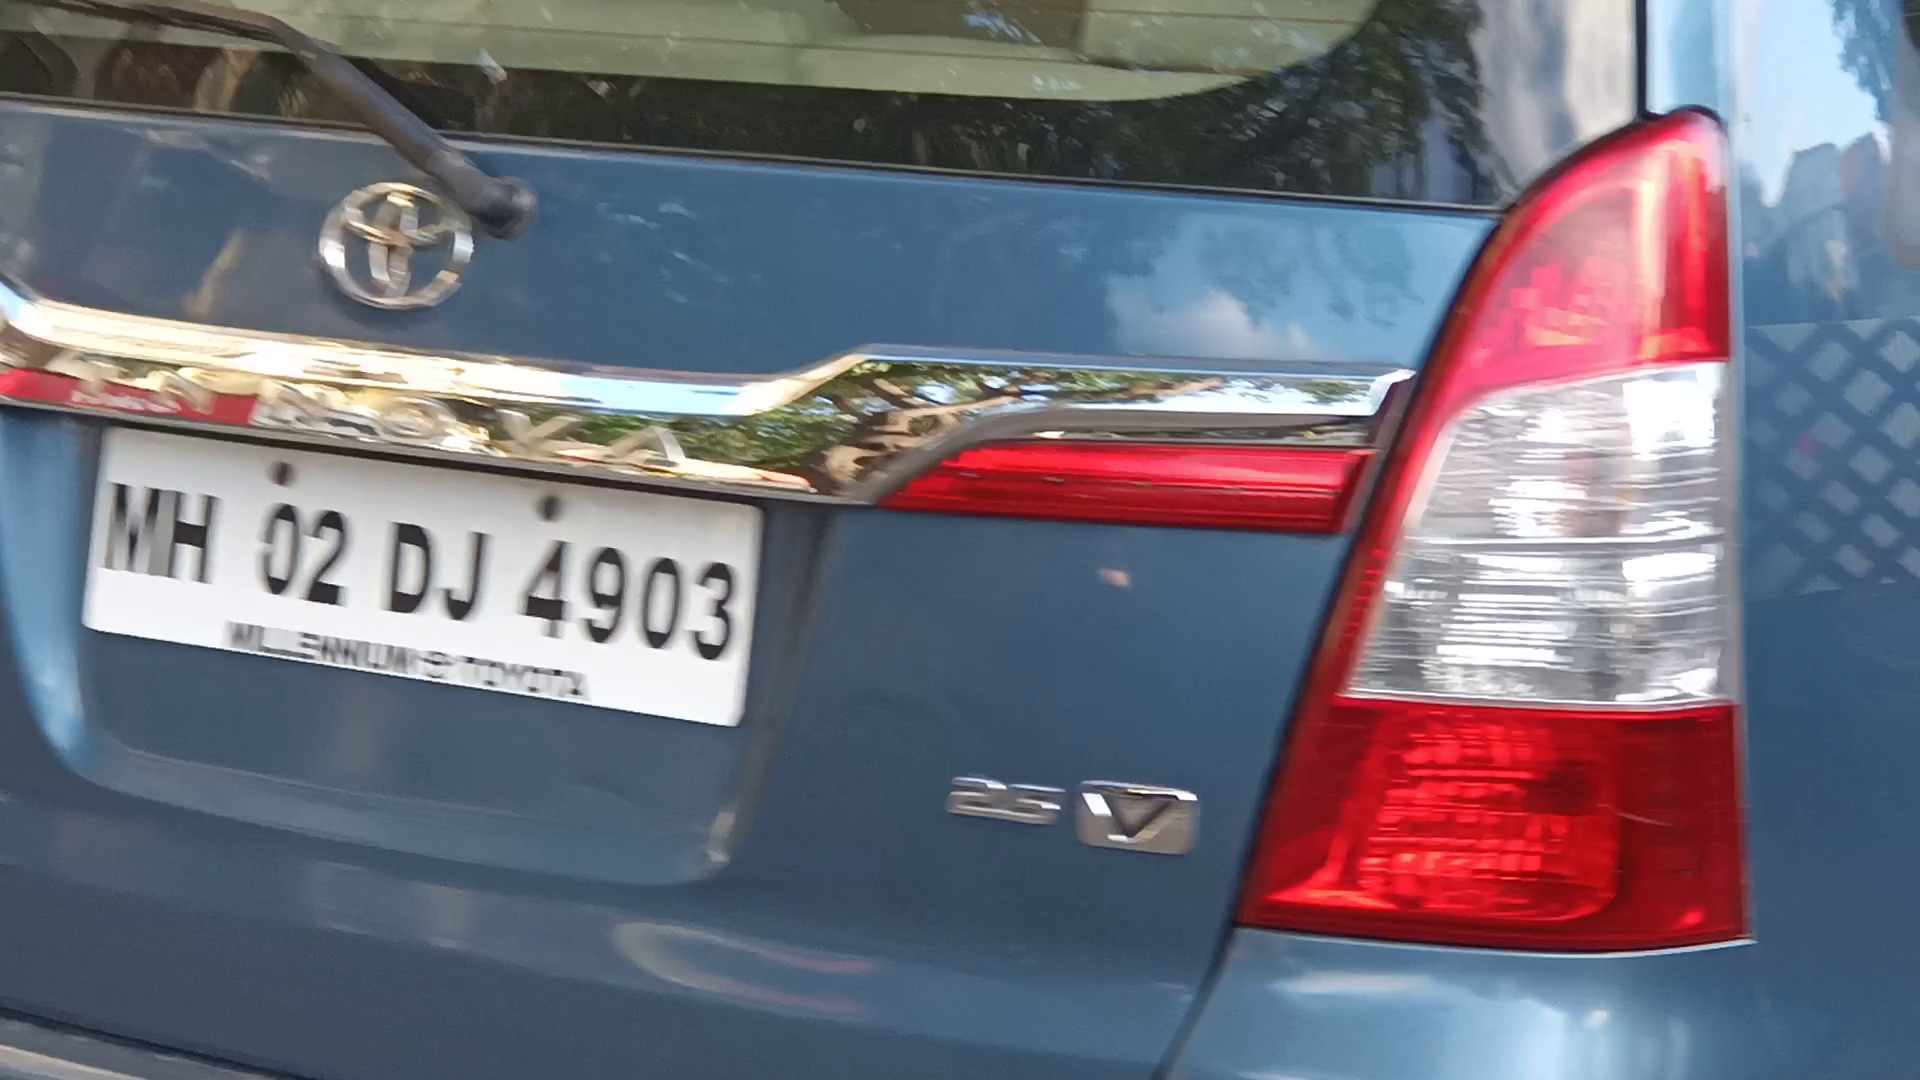MH02DJ8952: (80, 417, 763, 729)
